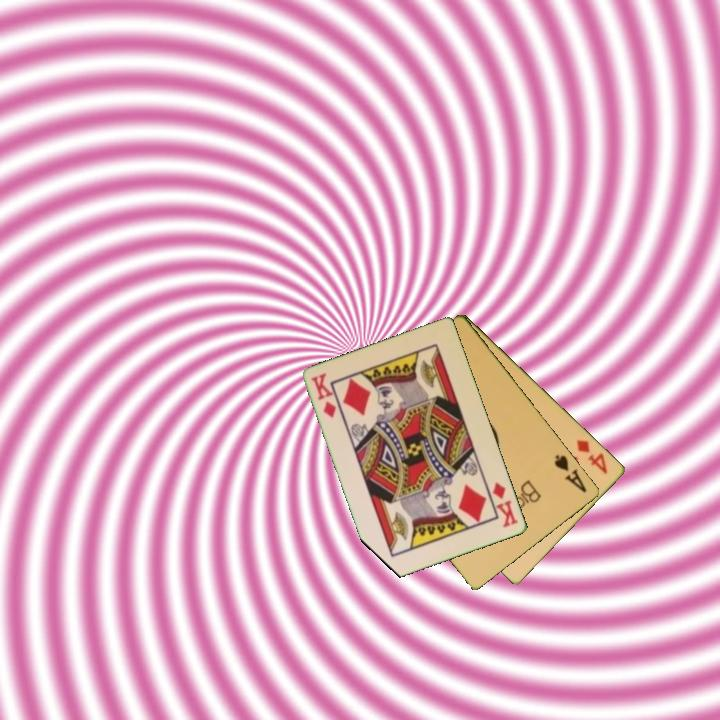4d: (573, 436, 611, 477)
As: (551, 451, 590, 496)
Kd: (489, 479, 521, 531), (308, 370, 340, 421)
